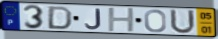3: (23, 4, 46, 30)
D: (46, 6, 75, 31)
H: (107, 7, 136, 33)
J: (84, 8, 103, 30)
O: (143, 9, 168, 33)
U: (169, 8, 198, 35)
